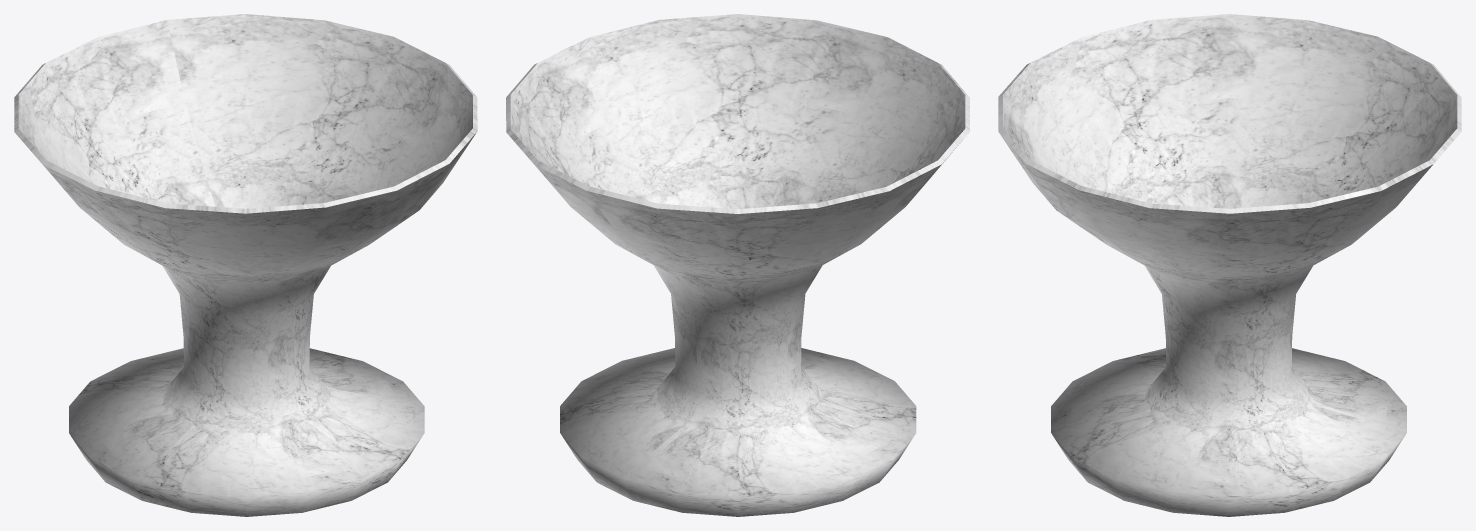
File: activator cup ver 1.FBX
3 renders of one model, left to right at view 1: azimuth 30°, elevation 25°; view 2: azimuth 150°, elevation 25°; view 3: azimuth 270°, elevation 25°, orthographic.
Visible parts, largest first — view 1: activator on table ver1; view 2: activator on table ver1; view 3: activator on table ver1.
Boxes of the visible parts, <box> form: activator on table ver1: <box>14,14,477,516</box>; activator on table ver1: <box>506,14,969,516</box>; activator on table ver1: <box>998,14,1461,516</box>.
Bounding box in the file's own units: 0.5814 × 0.4591 × 0.5729.
1 material, 1 textured.
